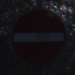No entry: (6, 7, 69, 69)
